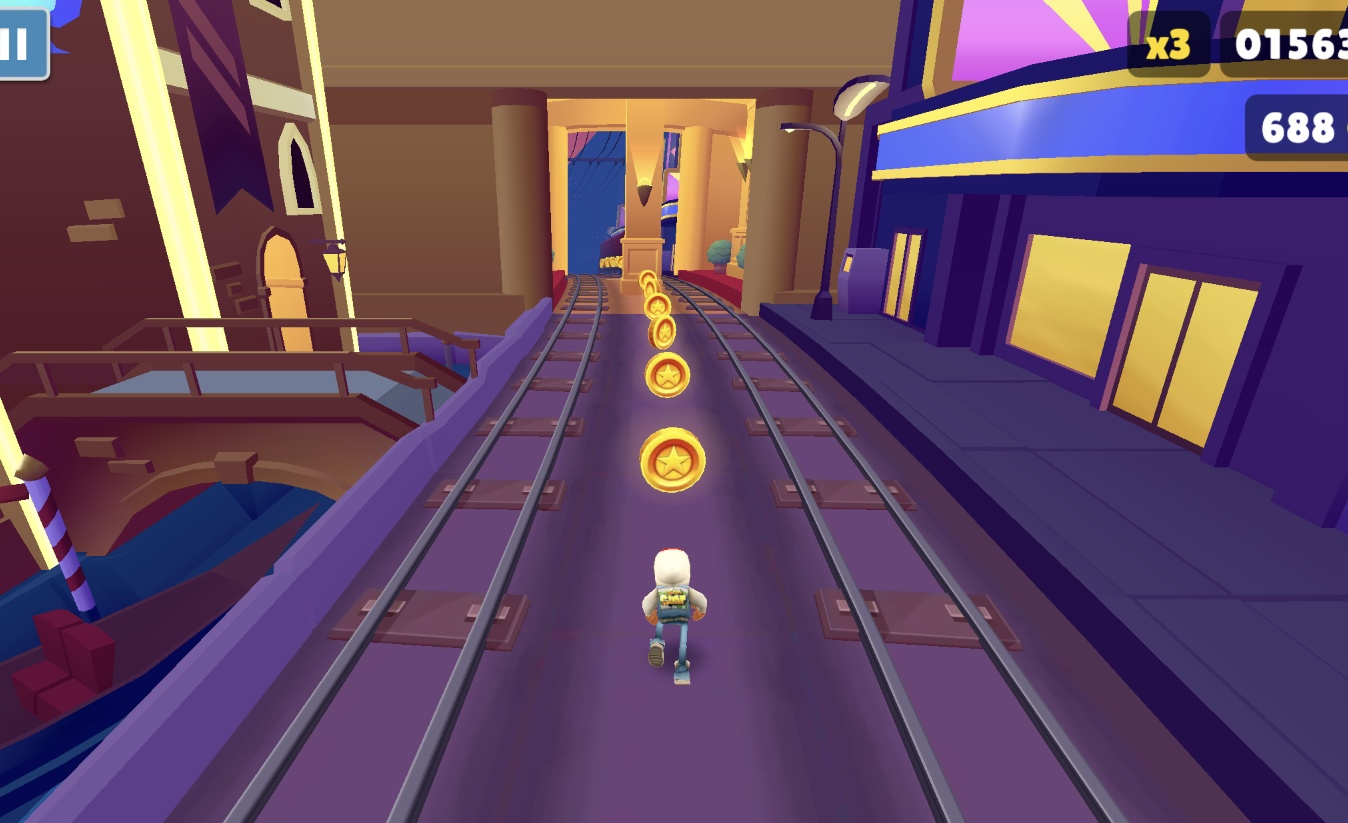pillar: (620, 100, 667, 297)
